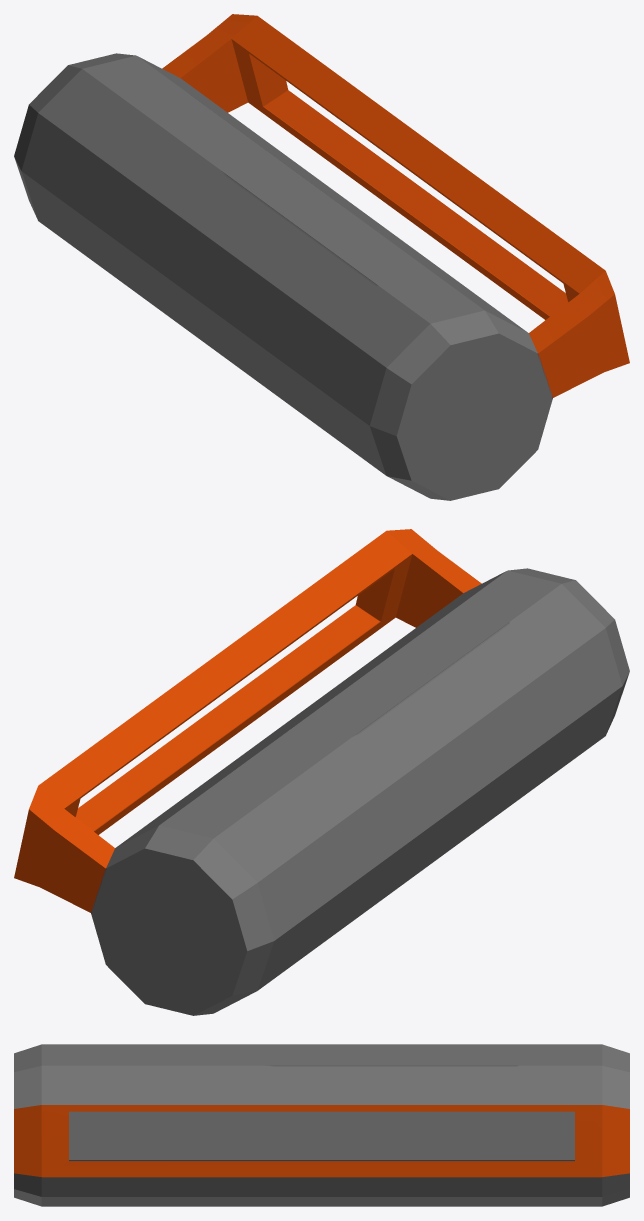
File: letterpuzzle frame.fbx
3 renders of one model, top to bottom at view 1: azimuth 30°, elevation 25°; view 2: azimuth 150°, elevation 25°; view 3: azimuth 270°, elevation 25°, orthographic. The views are drawn at different scales.
Visible parts, largest first — view 1: pCylinder22; view 2: pCylinder22; view 3: pCylinder22.
Part boxes in pixels (left/top/right/bottom): pCylinder22: left=14, top=14, right=629, bottom=500; pCylinder22: left=14, top=529, right=629, bottom=1015; pCylinder22: left=14, top=1044, right=629, bottom=1206.
Size of the model in its own units: 1.96 by 1.38 by 5.15.
